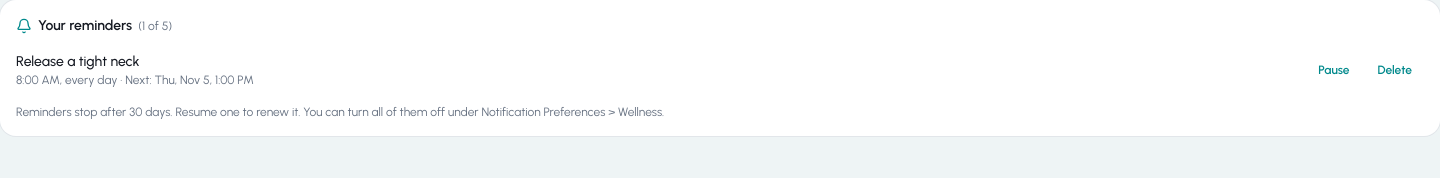
HealthTipRemindersList › shows a plain message when an action fails
Click the button "Pause". click: (1334, 70)
box: [1306,58,1362,82]
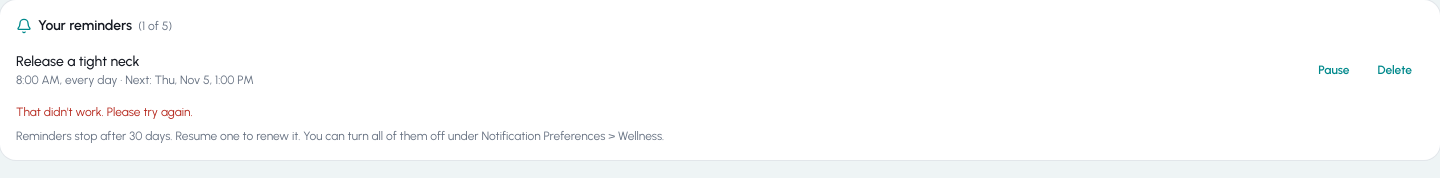
Check: the message does not show "secret", box [16,105,192,119]
Check: the message shows "didn't work", box [16,105,192,119]
